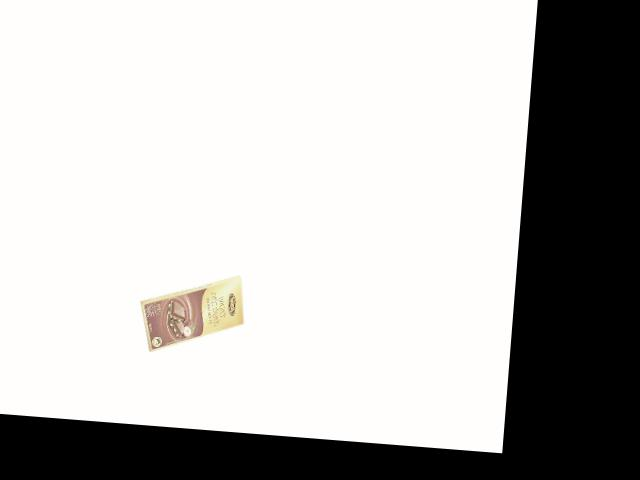chocolate: (126, 264, 248, 359)
